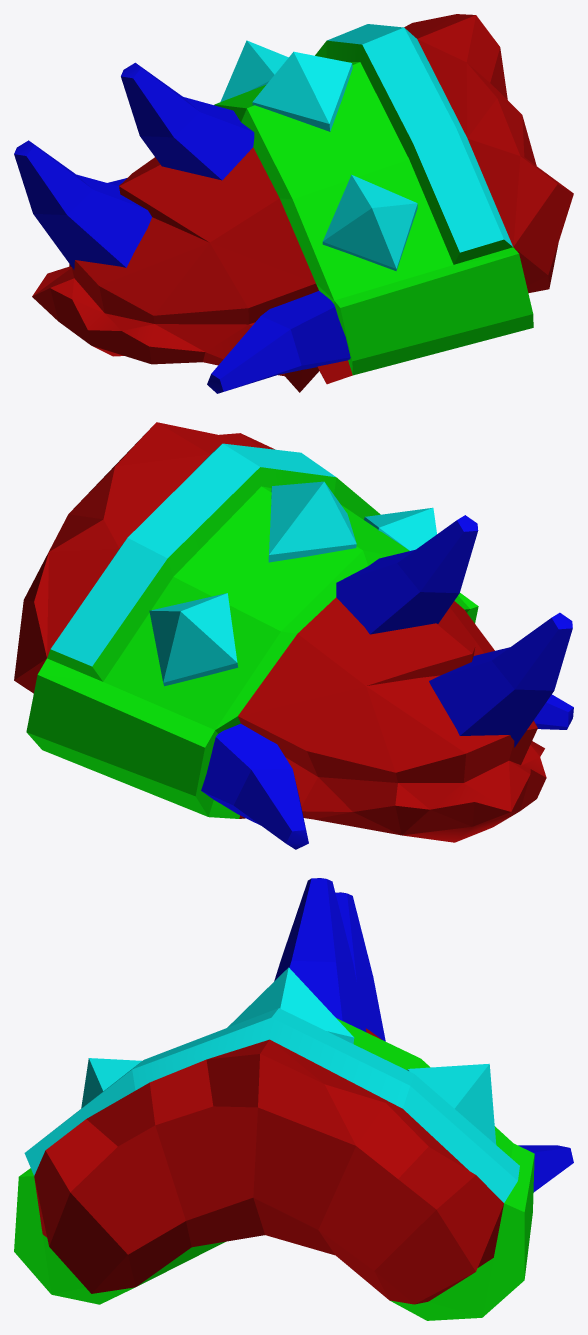
Rendered from Chr_ShoulderAttachRight_Static_06.fbx.
The picture shows the model from 3 angles, top to bottom: view 1: azimuth 30°, elevation 25°; view 2: azimuth 150°, elevation 25°; view 3: azimuth 270°, elevation 25°; orthographic projection. The views are drawn at different scales.
Parts seen in each view (by area): view 1: Chr_ShoulderAttachRight_06; view 2: Chr_ShoulderAttachRight_06; view 3: Chr_ShoulderAttachRight_06.
Part boxes in pixels (bbox=[...]): Chr_ShoulderAttachRight_06: bbox=[14, 14, 573, 393]; Chr_ShoulderAttachRight_06: bbox=[14, 422, 573, 849]; Chr_ShoulderAttachRight_06: bbox=[14, 878, 573, 1320].
Size of the model in its own units: 32.24 by 18.56 by 29.31.
